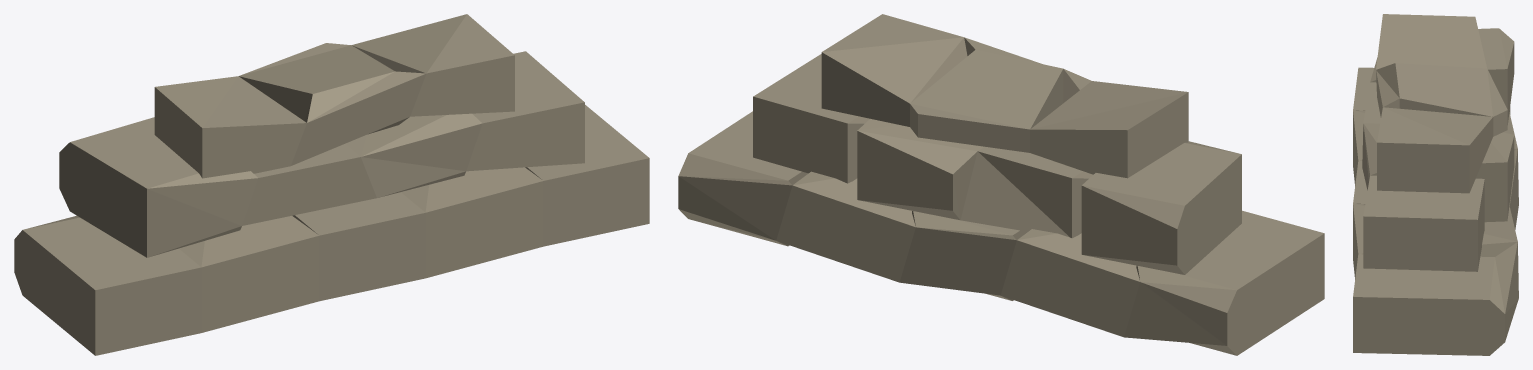
The model's file is barricade.lod1.glb.
The picture shows the model from 3 angles, left to right: view 1: azimuth 30°, elevation 25°; view 2: azimuth 150°, elevation 25°; view 3: azimuth 270°, elevation 25°; orthographic projection. The views are drawn at different scales.
Bounding box in the file's own units: 2.5 × 0.8 × 0.7518.
